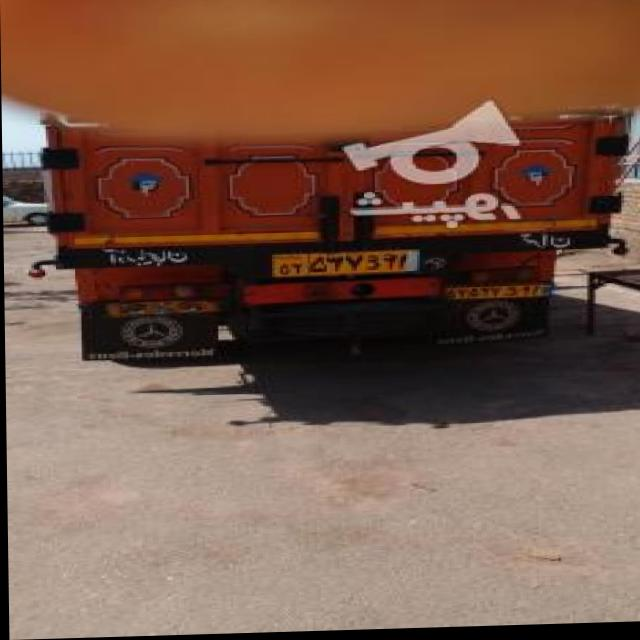licence: (277, 250, 425, 275), (444, 284, 556, 302)
